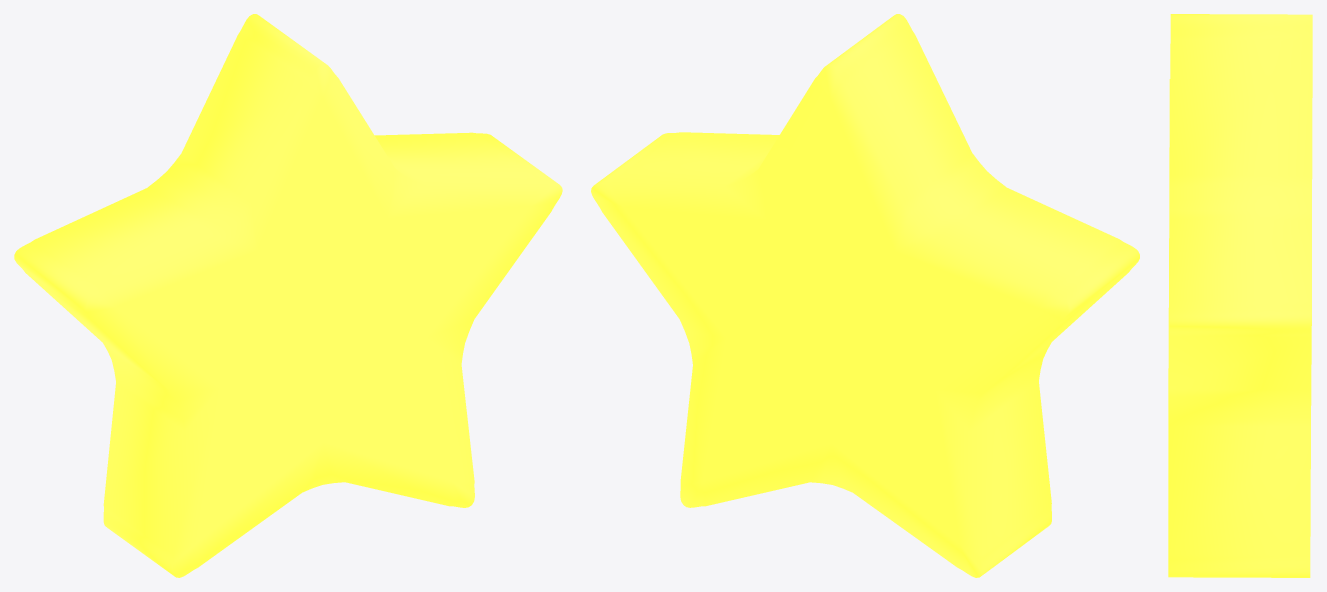
Rendered from rotating_star.glb.
3 views of the same model, side by side, from view 1: azimuth 30°, elevation 25°; view 2: azimuth 150°, elevation 25°; view 3: azimuth 270°, elevation 25° (orthographic). The views are drawn at different scales.
Visible parts, largest first — view 1: Vert_0; view 2: Vert_0; view 3: Vert_0.
Part boxes in pixels (bbox=[...]): Vert_0: bbox=[14, 14, 562, 577]; Vert_0: bbox=[591, 14, 1139, 577]; Vert_0: bbox=[1168, 14, 1312, 577].
Bounding box in the file's own units: 1.28 × 1.22 × 0.3257.
